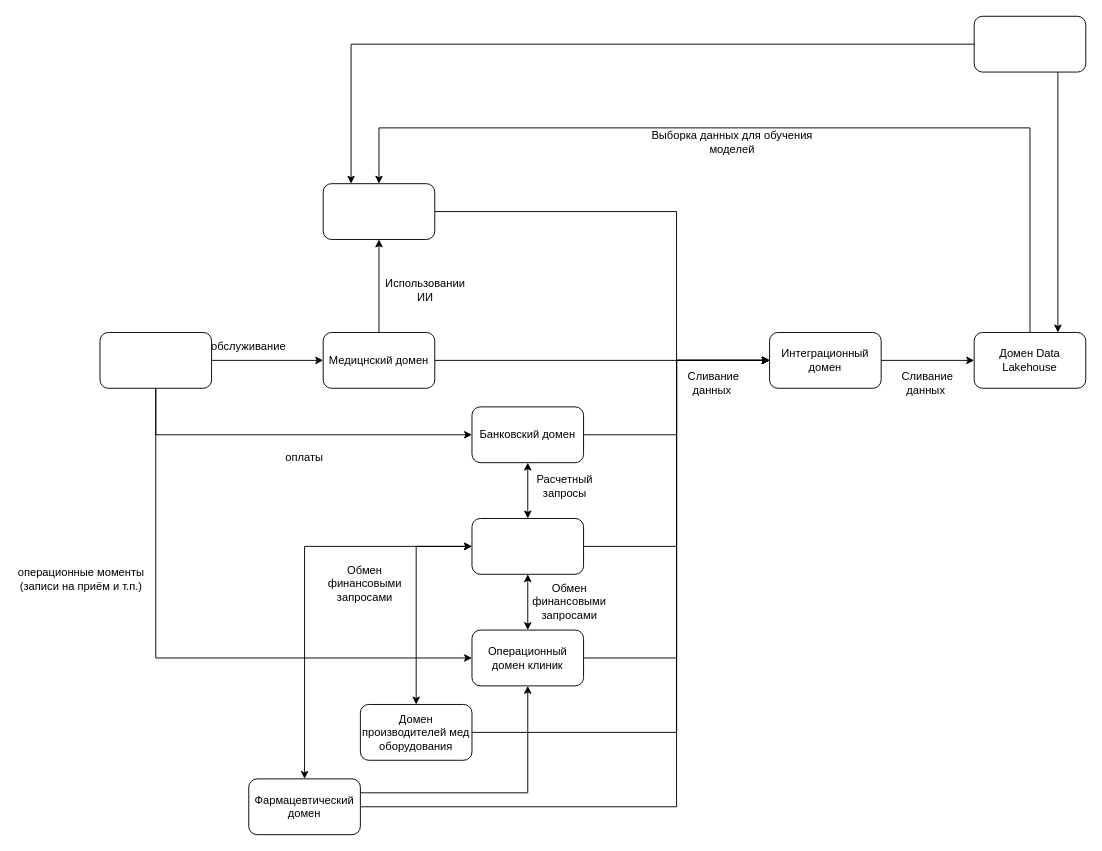
Some shapes in this 1102 by 851 pixel diagram are drawn without their labels. The shapes that lost their labels are listed below. From the top down, each one's centre as x and y in pixels, then its label:
(1029,43): Домен витрин
(378,211): ИИ домен
(155,360): Клиенетский домен
(527,546): Финансовый домен
